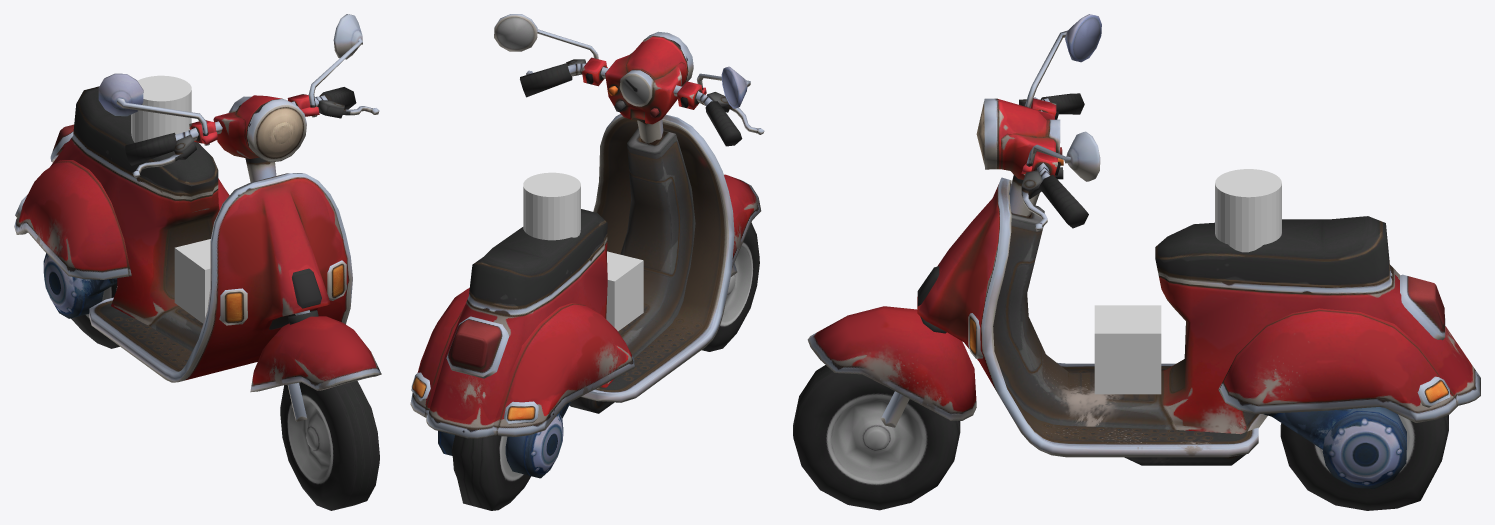
Rendered from scooter.glb.
3 views of the same model, side by side, from view 1: azimuth 30°, elevation 25°; view 2: azimuth 150°, elevation 25°; view 3: azimuth 270°, elevation 25° (orthographic). The views are drawn at different scales.
Visible parts, largest first — view 1: Donut_Scooter_Gadget_3_0, TimeframeMainGroup.003, FrontWheel_Mesh, TimeframeMainGroup.002, Motor, Battery, TimeframeMainGroup.001, TimeframeMainGroup.005, TimeframeMainGroup.006, RearWheel_Mesh; view 2: Donut_Scooter_Gadget_3_0, TimeframeMainGroup.003, RearWheel_Mesh, Motor, FrontWheel_Mesh, TimeframeMainGroup.001, Battery, TimeframeMainGroup.002, TimeframeMainGroup.006, TimeframeMainGroup.005; view 3: Donut_Scooter_Gadget_3_0, FrontWheel_Mesh, TimeframeMainGroup.002, TimeframeMainGroup.003, TimeframeMainGroup.001, RearWheel_Mesh, Battery, Motor, TimeframeMainGroup.005, TimeframeMainGroup.006.
Boxes of the visible parts, left/top/right/bottom form: Donut_Scooter_Gadget_3_0: left=14, top=86, right=352, bottom=421; TimeframeMainGroup.003: left=116, top=38, right=379, bottom=182; FrontWheel_Mesh: left=280, top=381, right=379, bottom=510; TimeframeMainGroup.002: left=250, top=316, right=381, bottom=392; Motor: left=131, top=75, right=191, bottom=142; Battery: left=174, top=239, right=210, bottom=323; TimeframeMainGroup.001: left=43, top=253, right=117, bottom=318; TimeframeMainGroup.005: left=98, top=73, right=143, bottom=116; TimeframeMainGroup.006: left=333, top=14, right=362, bottom=59; RearWheel_Mesh: left=71, top=283, right=119, bottom=348; Donut_Scooter_Gadget_3_0: left=410, top=114, right=737, bottom=438; TimeframeMainGroup.003: left=520, top=29, right=764, bottom=146; RearWheel_Mesh: left=451, top=435, right=530, bottom=510; Motor: left=523, top=172, right=580, bottom=240; FrontWheel_Mesh: left=701, top=223, right=759, bottom=351; TimeframeMainGroup.001: left=438, top=402, right=570, bottom=478; Battery: left=606, top=251, right=643, bottom=331; TimeframeMainGroup.002: left=724, top=174, right=761, bottom=267; TimeframeMainGroup.006: left=494, top=14, right=537, bottom=51; TimeframeMainGroup.005: left=721, top=66, right=747, bottom=108; Donut_Scooter_Gadget_3_0: left=881, top=177, right=1480, bottom=465; FrontWheel_Mesh: left=793, top=365, right=960, bottom=510; TimeframeMainGroup.002: left=807, top=306, right=976, bottom=420; TimeframeMainGroup.003: left=976, top=30, right=1088, bottom=231; TimeframeMainGroup.001: left=1263, top=407, right=1406, bottom=489; RearWheel_Mesh: left=1280, top=414, right=1448, bottom=510; Battery: left=1094, top=305, right=1161, bottom=394; Motor: left=1215, top=169, right=1281, bottom=252; TimeframeMainGroup.005: left=1065, top=14, right=1101, bottom=62; TimeframeMainGroup.006: left=1066, top=131, right=1100, bottom=181.
Size of the model in its own units: 0.9899 by 1.42 by 2.05.
Materials: 8 (8 with a texture image).
